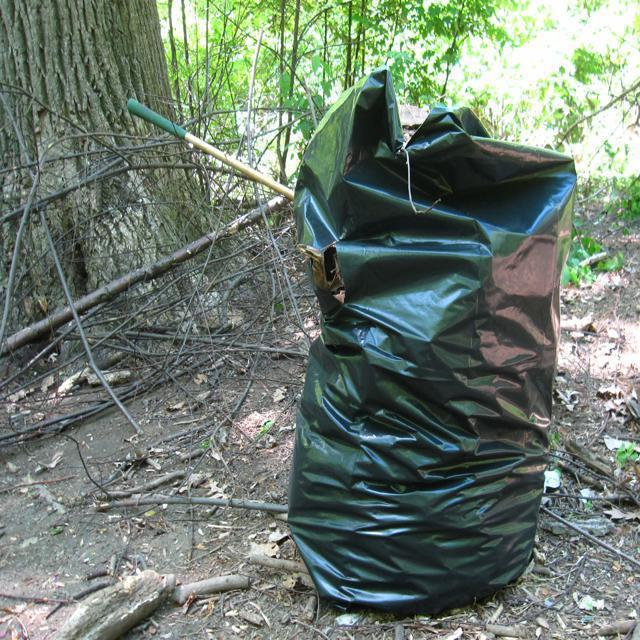Trashbag: (274, 65, 582, 627)
